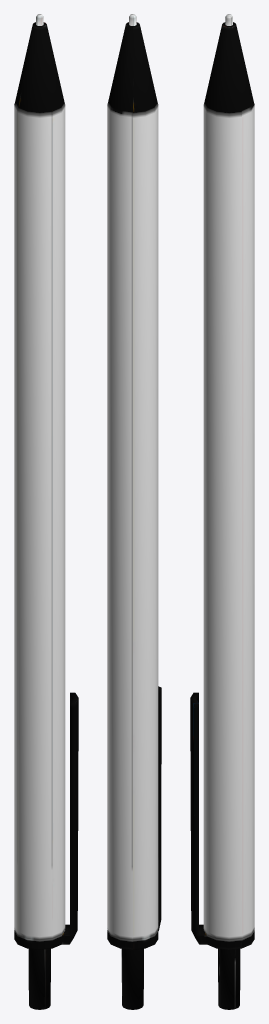
The model's file is MeshCylinder_226_0.obj.
3 renders of one model, left to right at view 1: azimuth 90°, elevation 25°; view 2: azimuth 150°, elevation 25°; view 3: azimuth 270°, elevation 25°, orthographic.
Visible parts, largest first — view 1: Cylinder_226; view 2: Cylinder_226; view 3: Cylinder_226.
Part boxes in pixels (left/top/right/bottom): Cylinder_226: left=14, top=14, right=78, bottom=1009; Cylinder_226: left=107, top=14, right=161, bottom=1009; Cylinder_226: left=190, top=14, right=254, bottom=1009.
Size of the model in its own units: 0.00891 by 0.1908 by 0.0113.
1 material, 1 textured.
